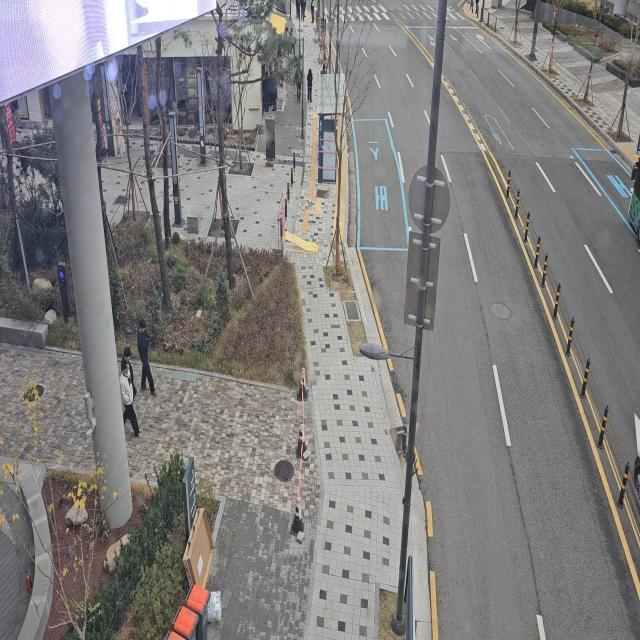Bus: (617, 114, 640, 258)
